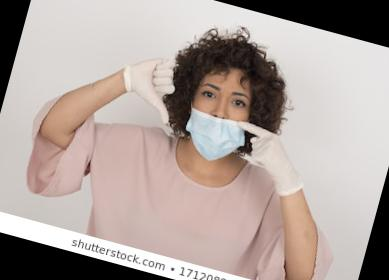mask_weared_incorrect: (181, 80, 255, 165)
